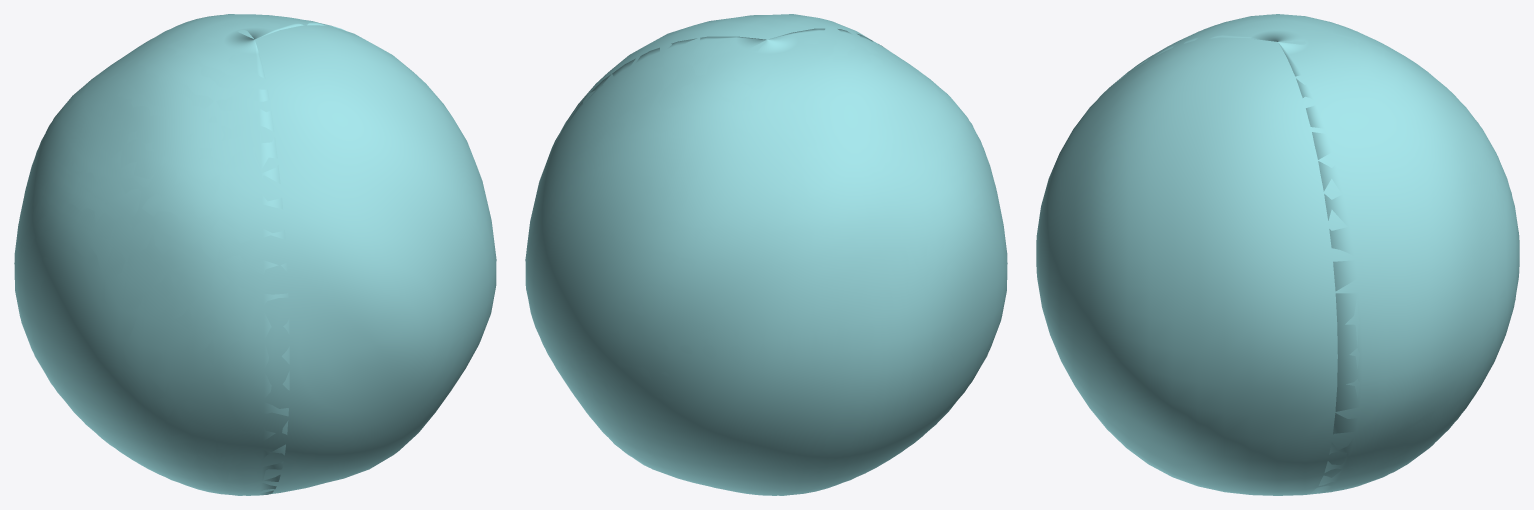
The model's file is nanocellulose_matrix.glb.
3 renders of one model, left to right at view 1: azimuth 30°, elevation 25°; view 2: azimuth 150°, elevation 25°; view 3: azimuth 270°, elevation 25°, orthographic.
Visible parts, largest first — view 1: Hydrogel_Shell_Full, Hydrogel_Shell_Cutaway; view 2: Hydrogel_Shell_Full, Hydrogel_Shell_Cutaway; view 3: Hydrogel_Shell_Full, Hydrogel_Shell_Cutaway.
Part boxes in pixels (x1,y1,x2,y2): Hydrogel_Shell_Full: [14, 14, 496, 495]; Hydrogel_Shell_Cutaway: [14, 14, 345, 495]; Hydrogel_Shell_Full: [525, 14, 1007, 495]; Hydrogel_Shell_Cutaway: [525, 28, 1007, 495]; Hydrogel_Shell_Full: [1036, 14, 1519, 495]; Hydrogel_Shell_Cutaway: [1098, 14, 1518, 494].
Size of the model in its own units: 7.1 by 7.1 by 7.12.
